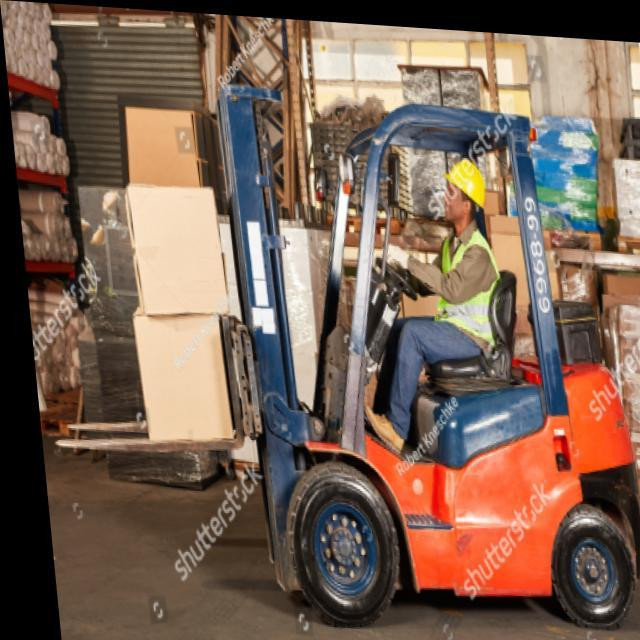boots: (365, 388, 412, 459)
helmet: (438, 158, 492, 233)
vest: (433, 225, 508, 356)
